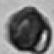correct: (2, 6, 54, 54)
